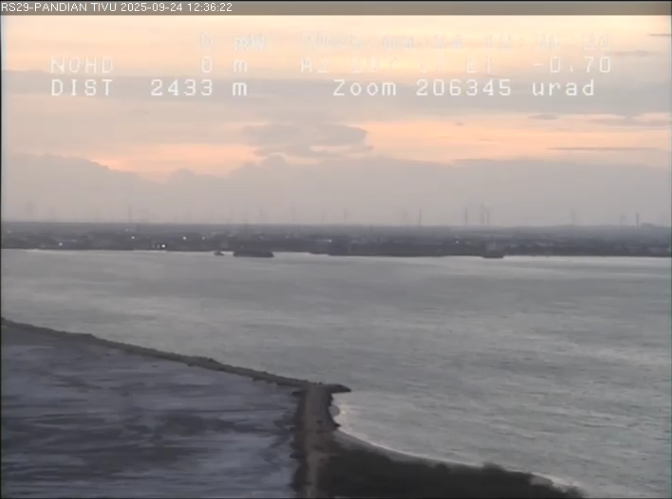BARGE: (231, 248, 283, 264)
TOWING: (196, 233, 307, 287)
TUGS: (209, 247, 226, 261)
